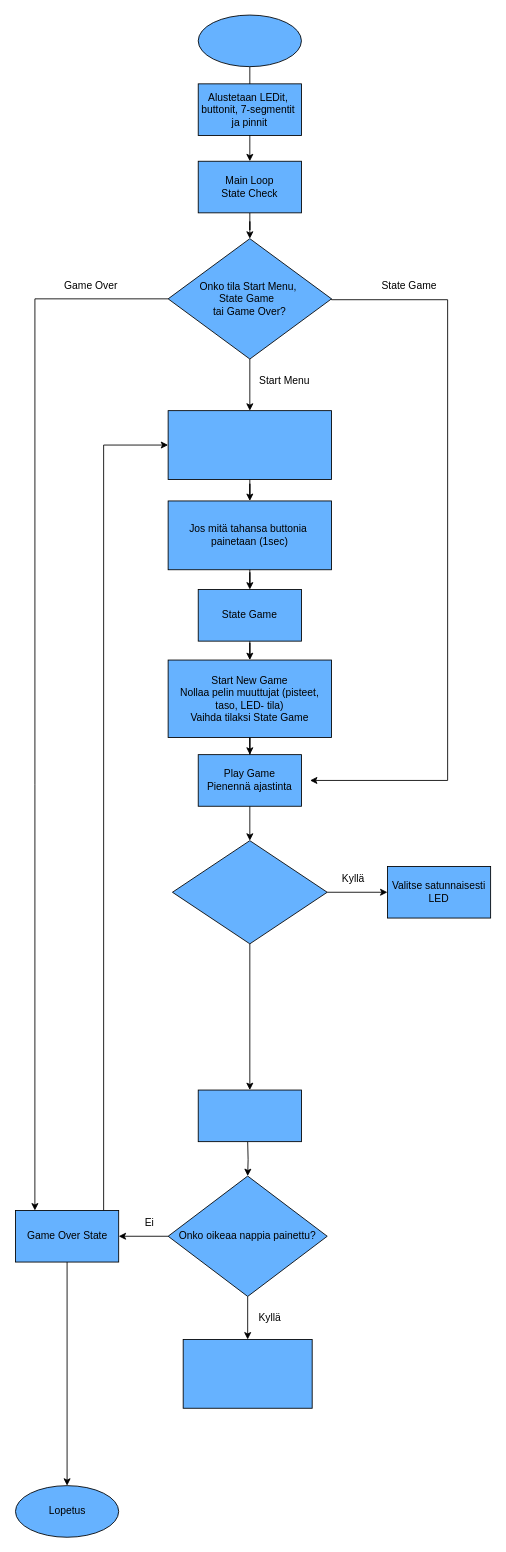
The diagram is 506 pixels wide and 1552 high, and some of its shapes have lost their labels. The box of each missing label's shape, as (x1, y1, x2, y2) in pixels:
Aloitus: (197, 14, 301, 67)
Button Press Check: (197, 1089, 301, 1142)
Kasvata pisteitä ja siirry seuraavalle tasolle: (182, 1339, 312, 1408)
Onko ajastin vanhentunut?: (172, 840, 327, 944)
Start Menu Näytä edellinen tulos ja paras tulos vuorotellen: (167, 410, 332, 479)
